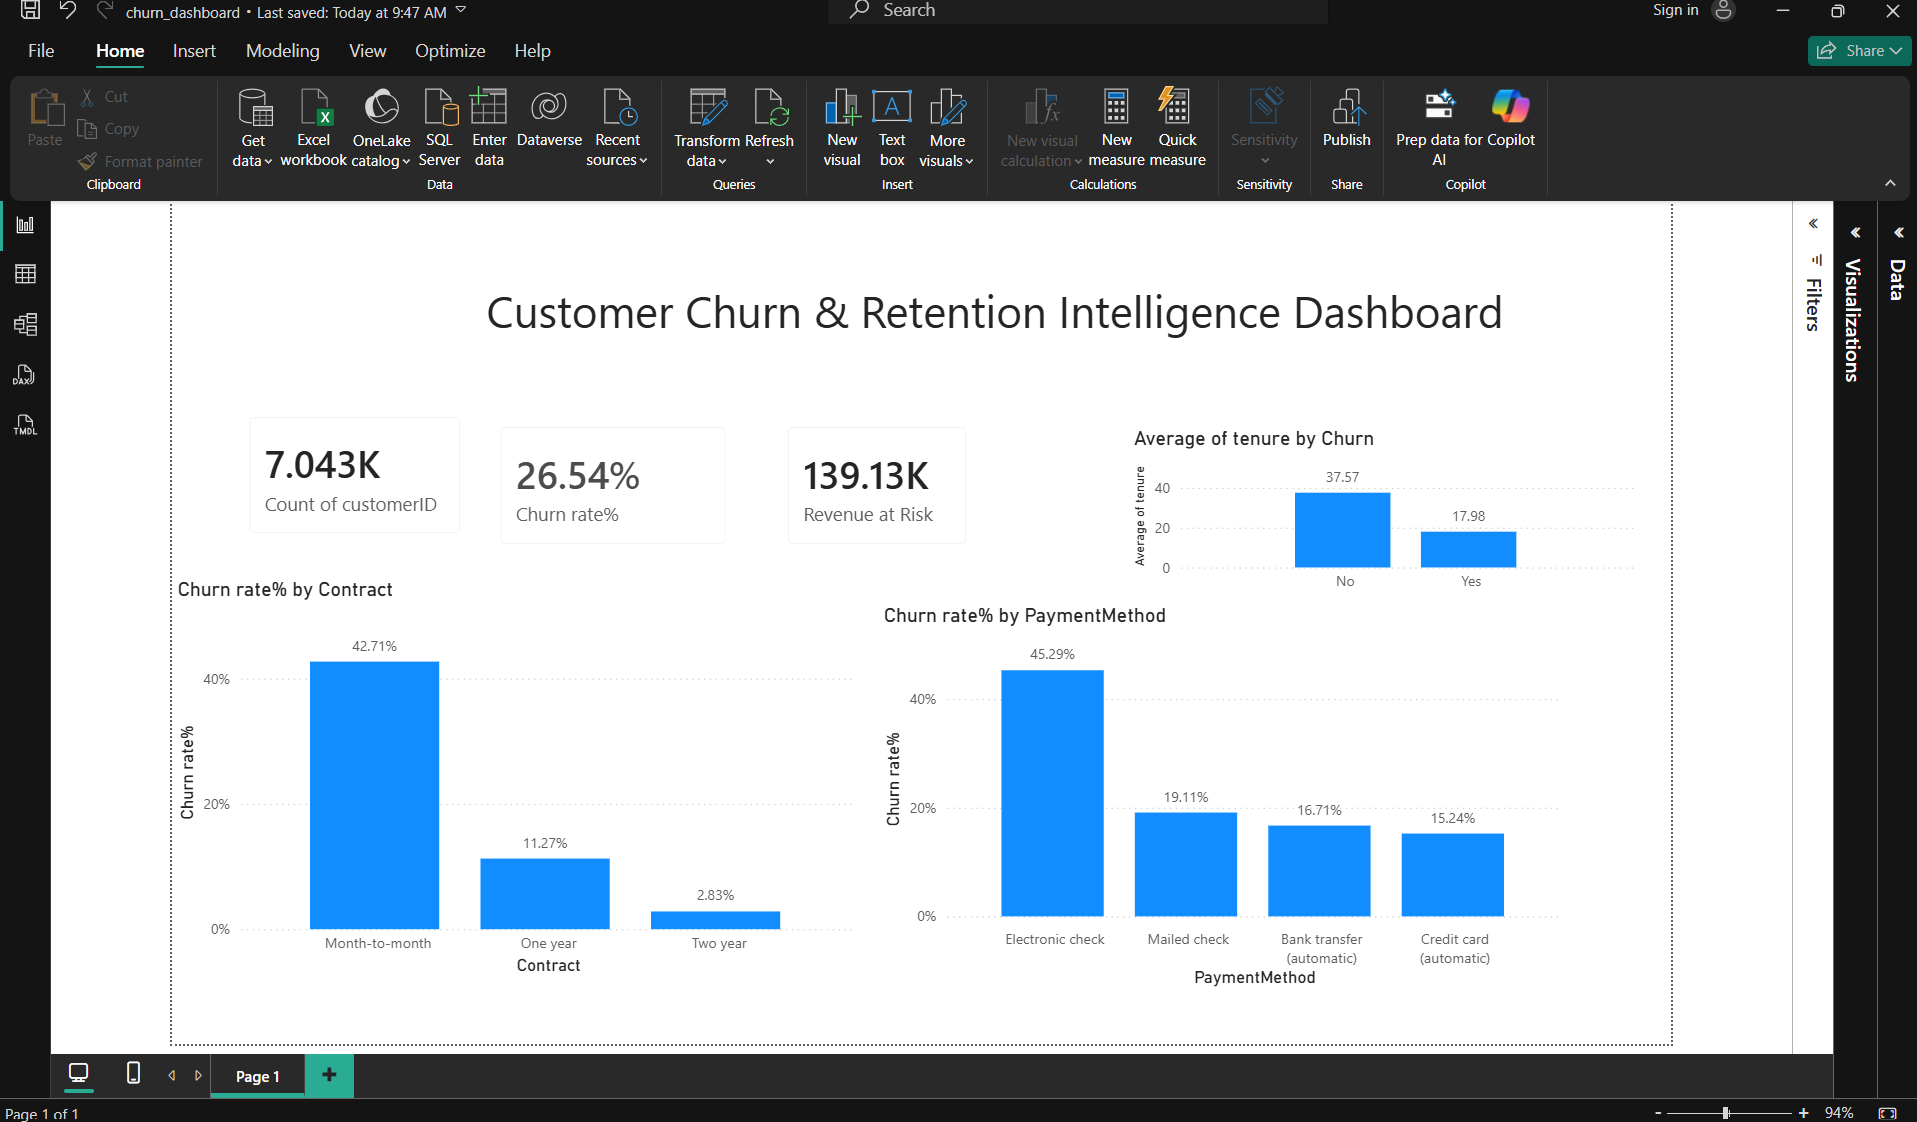

This screenshot's page, from the dashboard's own definition file:
{"tool":"powerbi","page":{"name":"Page 1","canvas":[1280,720],"ordinal":0},"visuals":[{"type":"cardVisual","fields":{"Data":["CountNonNull(telco_churn_cleaned.customerID)"]},"box":[49.4,167.4,214.1,133.1],"z":0},{"type":"cardVisual","fields":{"Data":["telco_churn_cleaned.Churn rate%"]},"box":[263.5,175.6,226.4,134.5],"z":1},{"type":"cardVisual","fields":{"Data":["telco_churn_cleaned.Revenue at Risk"]},"box":[509.1,175.6,186.6,134.5],"z":2},{"type":"clusteredColumnChart","fields":{"Category":["telco_churn_cleaned.Contract"],"Y":["telco_churn_cleaned.Churn rate%"]},"box":[0,321.1,588.7,344.4],"z":3},{"type":"clusteredColumnChart","fields":{"Category":["telco_churn_cleaned.PaymentMethod"],"Y":["telco_churn_cleaned.Churn rate%"]},"box":[602.4,343.1,588.7,332.1],"z":4},{"type":"clusteredColumnChart","fields":{"Category":["telco_churn_cleaned.Churn"],"Y":["Avg(telco_churn_cleaned.tenure)"]},"box":[816.5,192.1,437.7,150.9],"z":5},{"type":"textbox","box":[263.5,64.5,955.1,79.6],"z":6}]}

Visuals, with their boxes in screenshot pixels (x1, y1, x2, y2):
cardVisual - CountNonNull(telco_churn_cleaned.customerID): 115,343,420,533
cardVisual - telco_churn_cleaned.Churn rate%: 420,355,743,547
cardVisual - telco_churn_cleaned.Revenue at Risk: 770,355,1036,547
clusteredColumnChart - telco_churn_cleaned.Contract x telco_churn_cleaned.Churn rate%: 45,562,884,1053
clusteredColumnChart - telco_churn_cleaned.PaymentMethod x telco_churn_cleaned.Churn rate%: 903,594,1742,1067
clusteredColumnChart - telco_churn_cleaned.Churn x Avg(telco_churn_cleaned.tenure): 1208,379,1832,593
textbox: 420,197,1781,310
